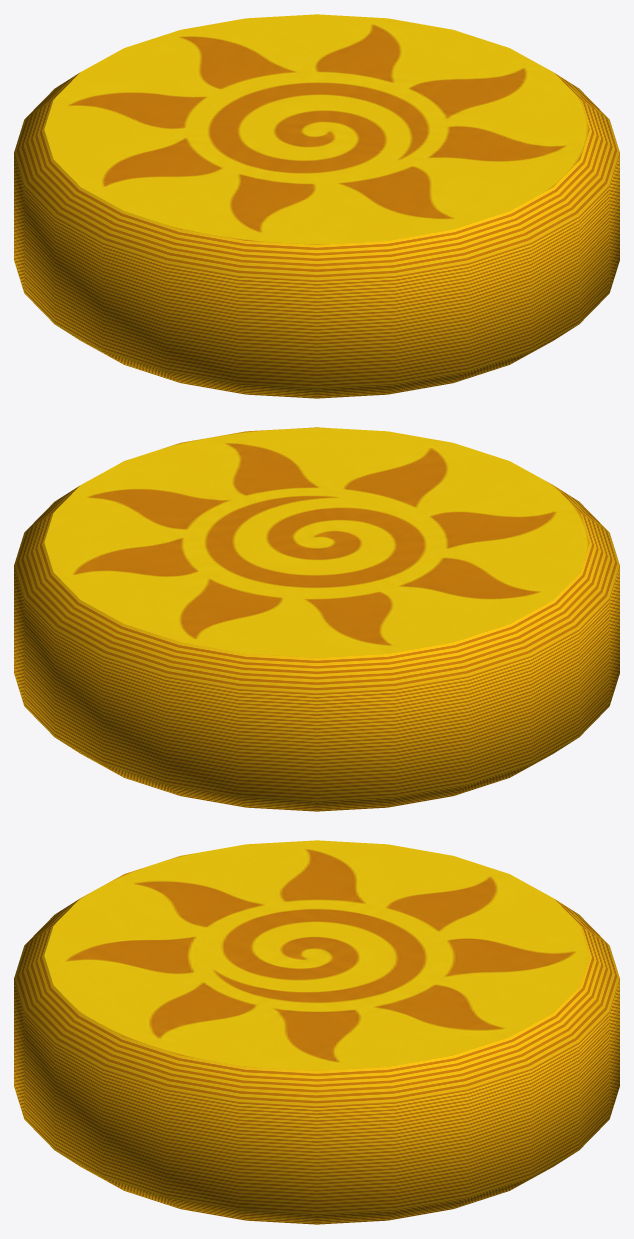
File: treasure_coin-Bg4xUs_0.glb
3 views of the same model, one above another, from view 1: azimuth 30°, elevation 25°; view 2: azimuth 150°, elevation 25°; view 3: azimuth 270°, elevation 25° (orthographic).
Visible parts, largest first — view 1: HI_treasure_coin; view 2: HI_treasure_coin; view 3: HI_treasure_coin.
Boxes of the visible parts, <box> form: HI_treasure_coin: <box>14,14,619,398</box>; HI_treasure_coin: <box>14,427,619,811</box>; HI_treasure_coin: <box>14,840,619,1224</box>.
Bounding box in the file's own units: 0.25 × 0.07 × 0.25.
1 material, 1 textured.
